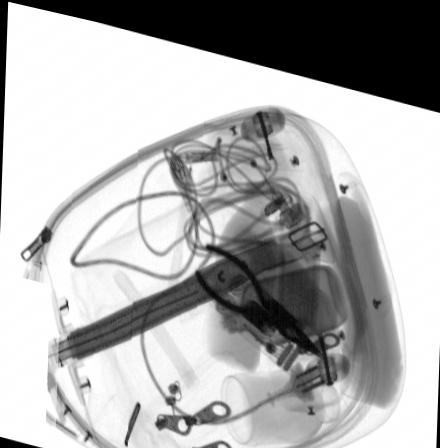Pliers: (193, 230, 322, 345)
